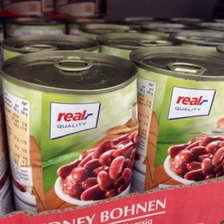beans: (2, 53, 139, 215), (133, 47, 224, 202)
